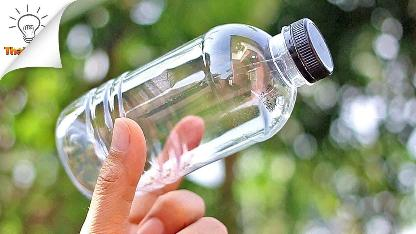Plastic Bottle: (54, 18, 338, 200)
